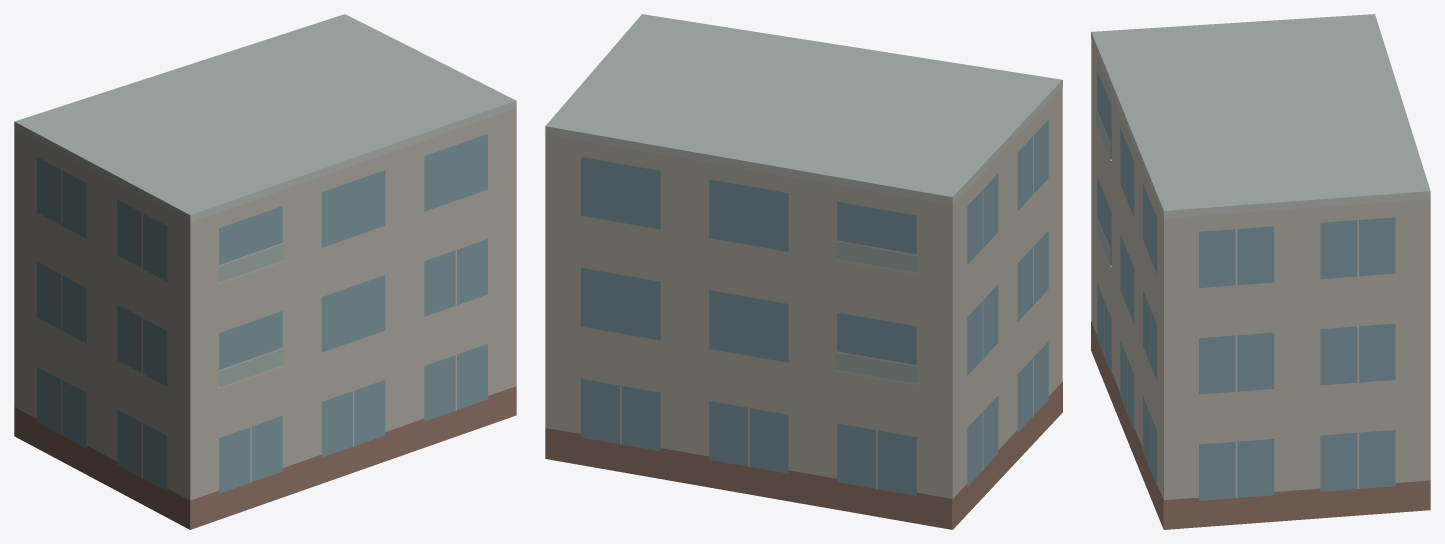
Rendered from survey-upis-32621739.glb.
3 views of the same model, side by side, from view 1: azimuth 30°, elevation 25°; view 2: azimuth 150°, elevation 25°; view 3: azimuth 270°, elevation 25° (orthographic). The views are drawn at different scales.
Parts seen in each view (by area): view 1: survey-upis-32621739.tmp; view 2: survey-upis-32621739.tmp; view 3: survey-upis-32621739.tmp.
Boxes of the visible parts, bbox=[...] form: survey-upis-32621739.tmp: bbox=[14, 14, 516, 529]; survey-upis-32621739.tmp: bbox=[545, 14, 1062, 529]; survey-upis-32621739.tmp: bbox=[1091, 14, 1430, 529].
Size of the model in its own units: 13.51 by 10.2 by 9.85.
